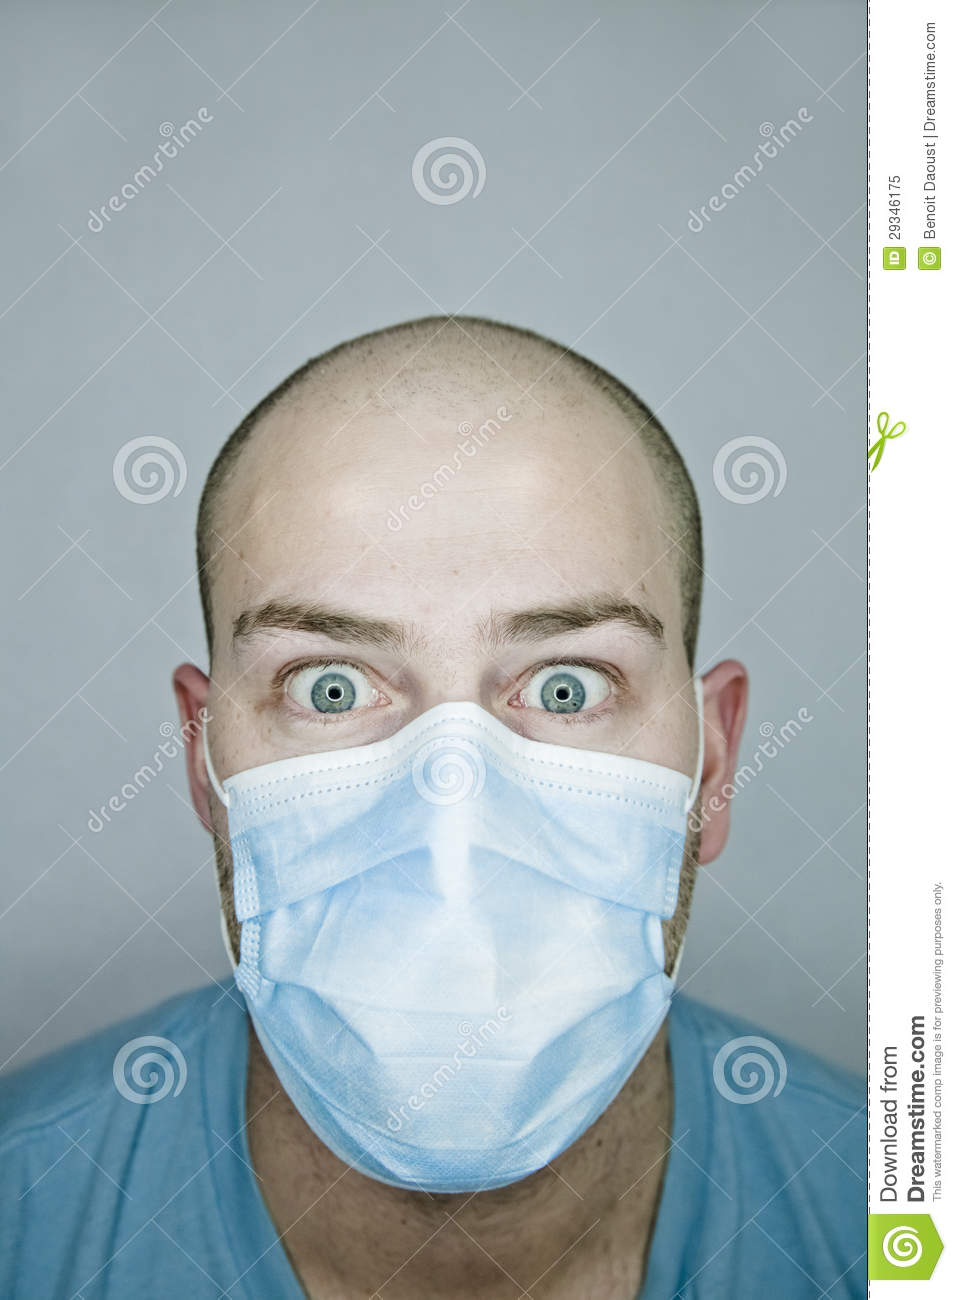mask: (200, 747, 726, 1221)
